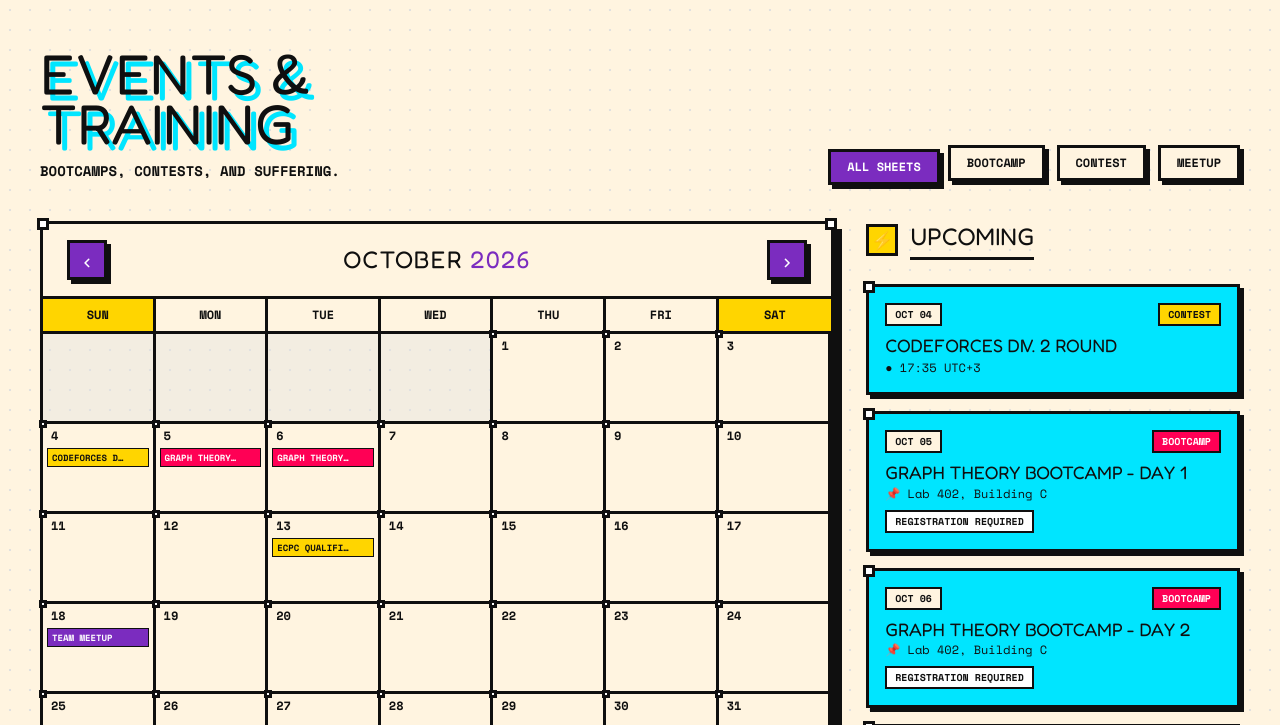
it: EventsPage › shows time, location and registration details in the modal
Click the heading "Graph Theory Bootcamp - Day 1" at (1053, 473), box [885, 461, 1221, 484]
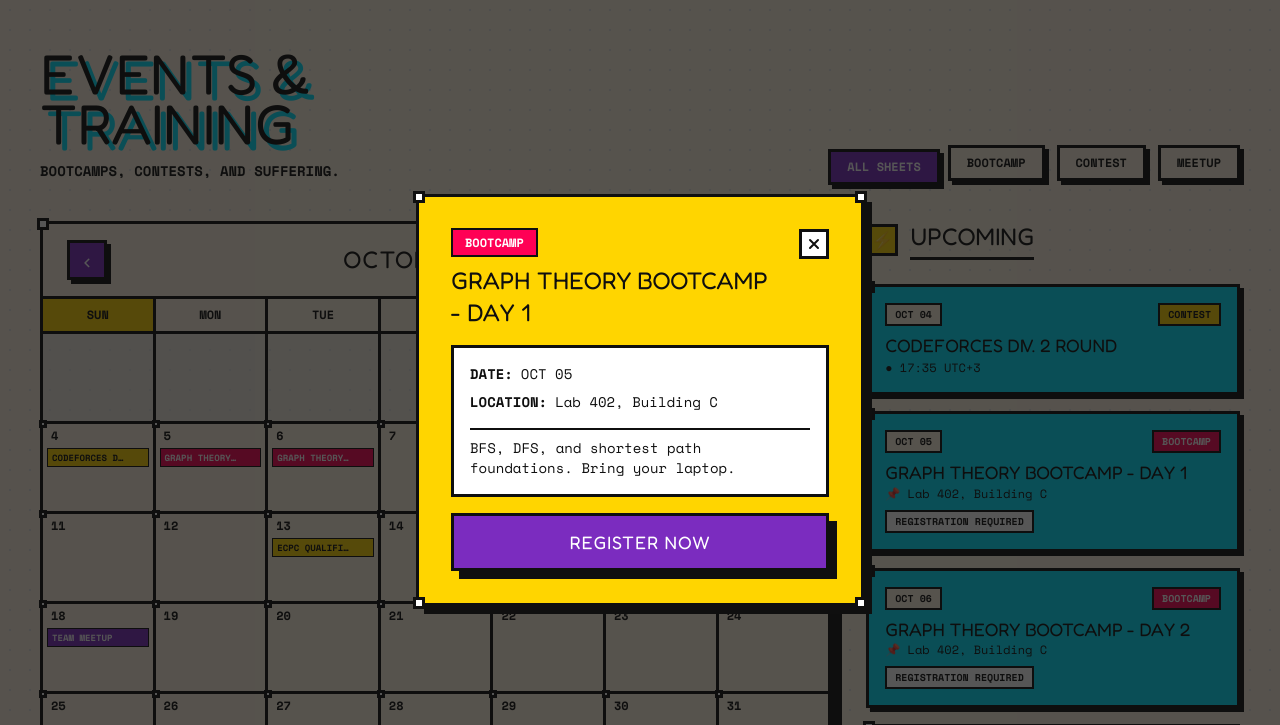
expect the text "OCT 05" is shown: met, box [521, 364, 572, 384]
expect the text "Lab 402, Building C" is shown: met, box [555, 392, 718, 412]
expect the link "REGISTER NOW" is shown: met, box [451, 513, 829, 571]
